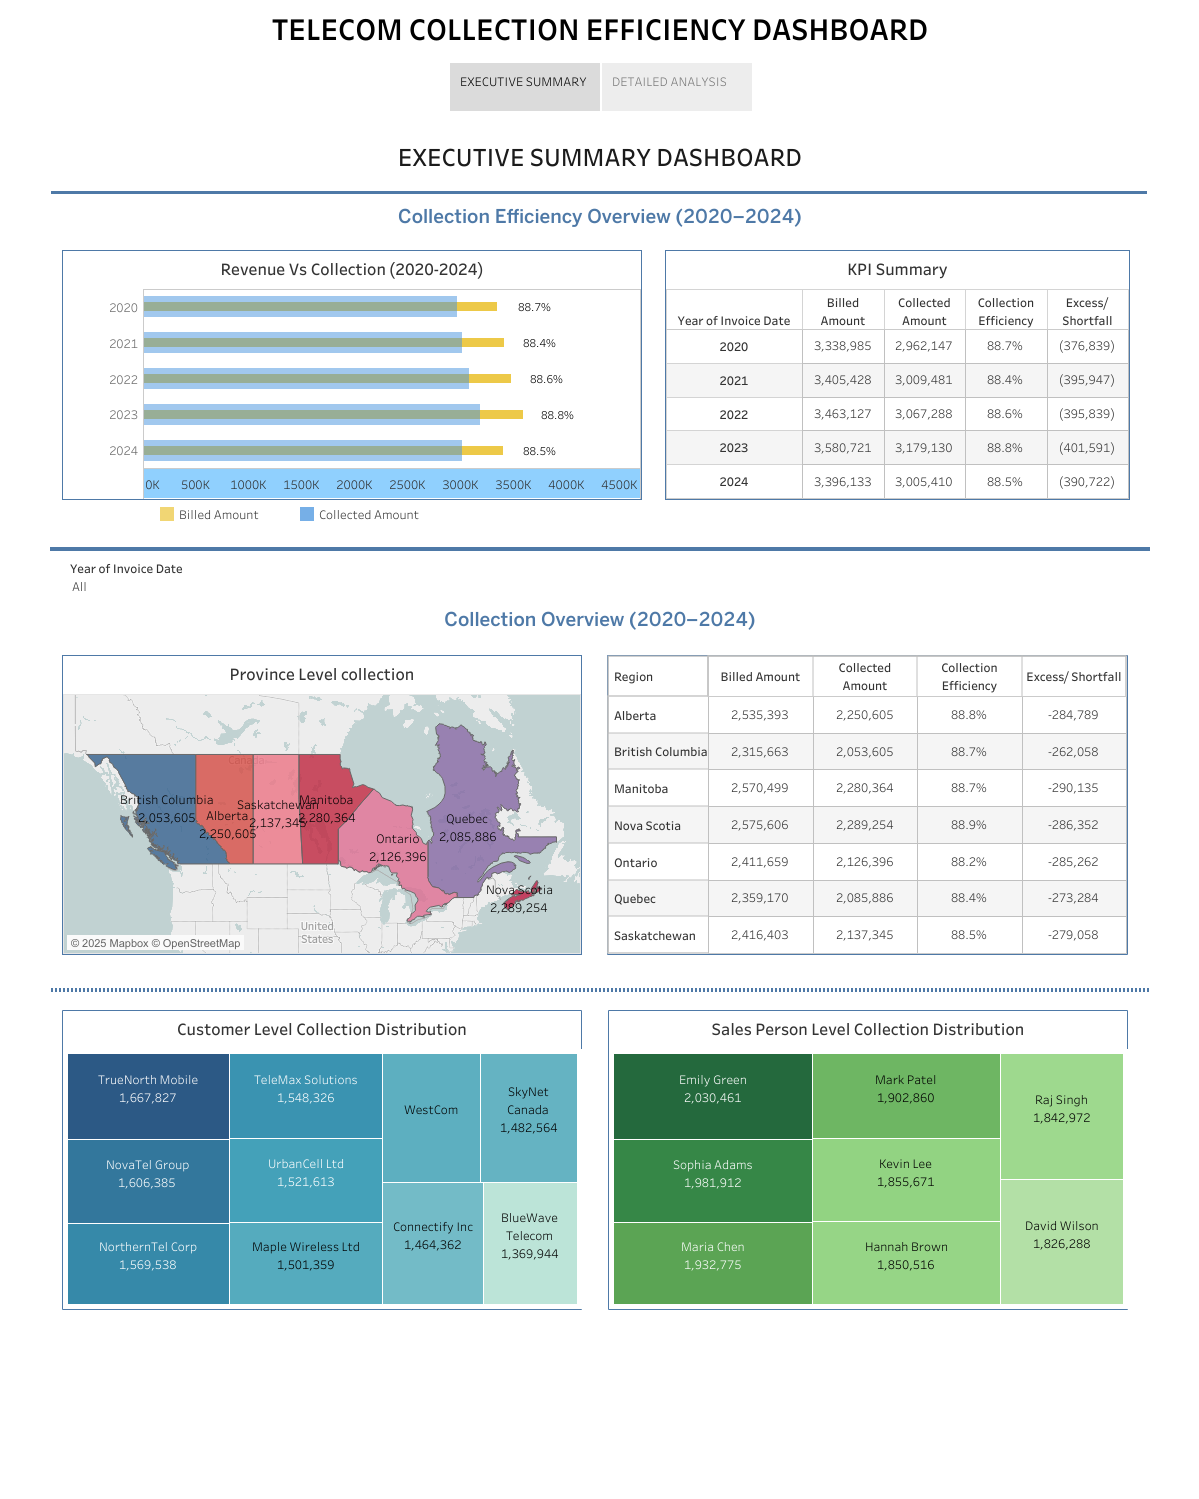

The dashboard page shown, as its layout file describes it:
{"tool":"tableau","page":{"name":"Executive Summary","canvas":[1100,1200],"ordinal":1},"visuals":[{"type":"title","box":[8,8,1084,41]},{"type":"blank","box":[1,64,1096,3]},{"type":"text","box":[0,76,1100,27]},{"type":"worksheet","title":"1.2.Summary Graph","mark":"Bar","rows":["Invoice_Date"],"cols":["Billed_Amount","Collected_Amount"],"box":[12,123,580,250]},{"type":"worksheet","title":"1.1.Summary KPI","mark":"Automatic","rows":["Invoice_Date"],"box":[615,123,465,250]},{"type":"legend","title":"1.2.Summary Graph","param":"[federated.1elfne01uk7lmr16cet4014lkqfg].[:Measure Names]","box":[107,377,403,28]},{"type":"blank","box":[0,420,1100,4]},{"type":"filter","title":"1.3.Map","param":"[federated.1elfne01uk7lmr16cet4014lkqfg].[yr:Invoice_Date:ok]","box":[20,431,183,43]},{"type":"text","box":[0,479,1100,27]},{"type":"worksheet","title":"1.3.Map","mark":"Multipolygon","box":[12,528,520,300]},{"type":"worksheet","title":"1.3.Map (2)","mark":"Automatic","rows":["Region"],"box":[557,528,521,300]},{"type":"blank","box":[0,861,1100,4]},{"type":"worksheet","title":"1.4.Customer","mark":"Automatic","box":[12,883,520,300]},{"type":"worksheet","title":"1.4.Sales Person","mark":"Automatic","box":[558,883,520,300]}]}

Visuals, with their boxes on the page's 1100x1200 design canvas (x1, y1, x2, y2). These are canvas units, not pixel positions in the 1199x1499 screenshot, which may show the page scaled, cropped or inside an application window:
title: select_region(8, 8, 1092, 49)
blank: select_region(1, 64, 1097, 67)
text: select_region(0, 76, 1100, 103)
"1.2.Summary Graph" worksheet (Bar marks): select_region(12, 123, 592, 373)
"1.1.Summary KPI" worksheet: select_region(615, 123, 1080, 373)
"1.2.Summary Graph" legend: select_region(107, 377, 510, 405)
blank: select_region(0, 420, 1100, 424)
"1.3.Map" filter: select_region(20, 431, 203, 474)
text: select_region(0, 479, 1100, 506)
"1.3.Map" worksheet (Multipolygon marks): select_region(12, 528, 532, 828)
"1.3.Map (2)" worksheet: select_region(557, 528, 1078, 828)
blank: select_region(0, 861, 1100, 865)
"1.4.Customer" worksheet: select_region(12, 883, 532, 1183)
"1.4.Sales Person" worksheet: select_region(558, 883, 1078, 1183)
